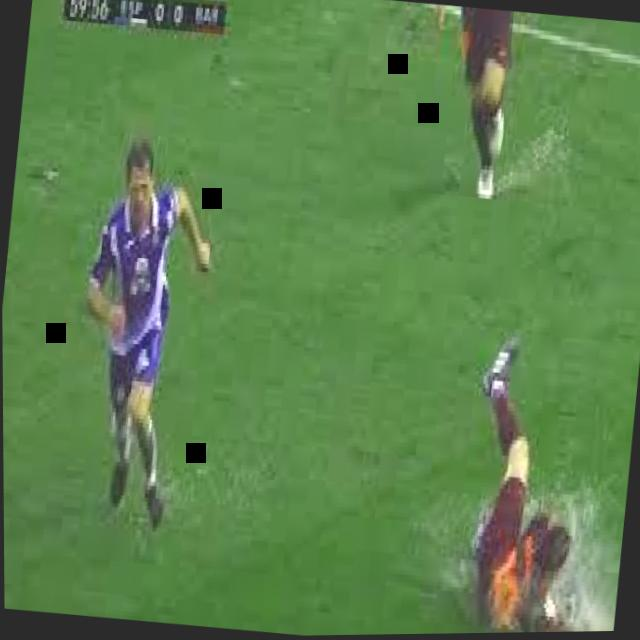Fall-Detected: (434, 300, 623, 635)
